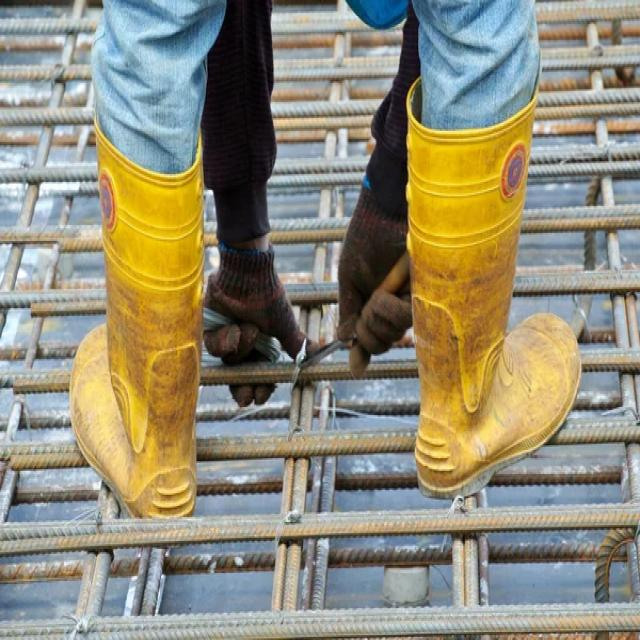shoes: (409, 84, 581, 495), (70, 125, 204, 516)
